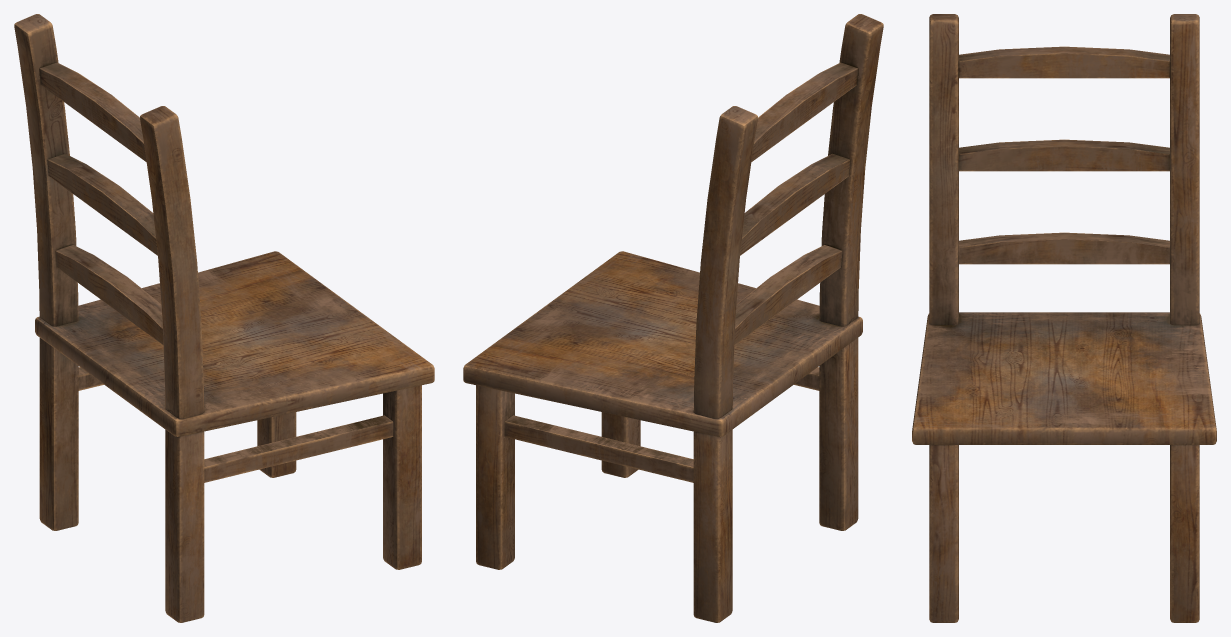
File: Chair.fbx
3 views of the same model, side by side, from view 1: azimuth 30°, elevation 25°; view 2: azimuth 150°, elevation 25°; view 3: azimuth 270°, elevation 25° (orthographic). The views are drawn at different scales.
Visible parts, largest first — view 1: Chair_Baked; view 2: Chair_Baked; view 3: Chair_Baked.
Part boxes in pixels (bbox=[...]): Chair_Baked: bbox=[14, 14, 434, 622]; Chair_Baked: bbox=[463, 14, 883, 622]; Chair_Baked: bbox=[912, 14, 1216, 622].
Bounding box in the file's own units: 0.6796 × 0.6832 × 1.21.
Materials: 1 (1 with a texture image).
